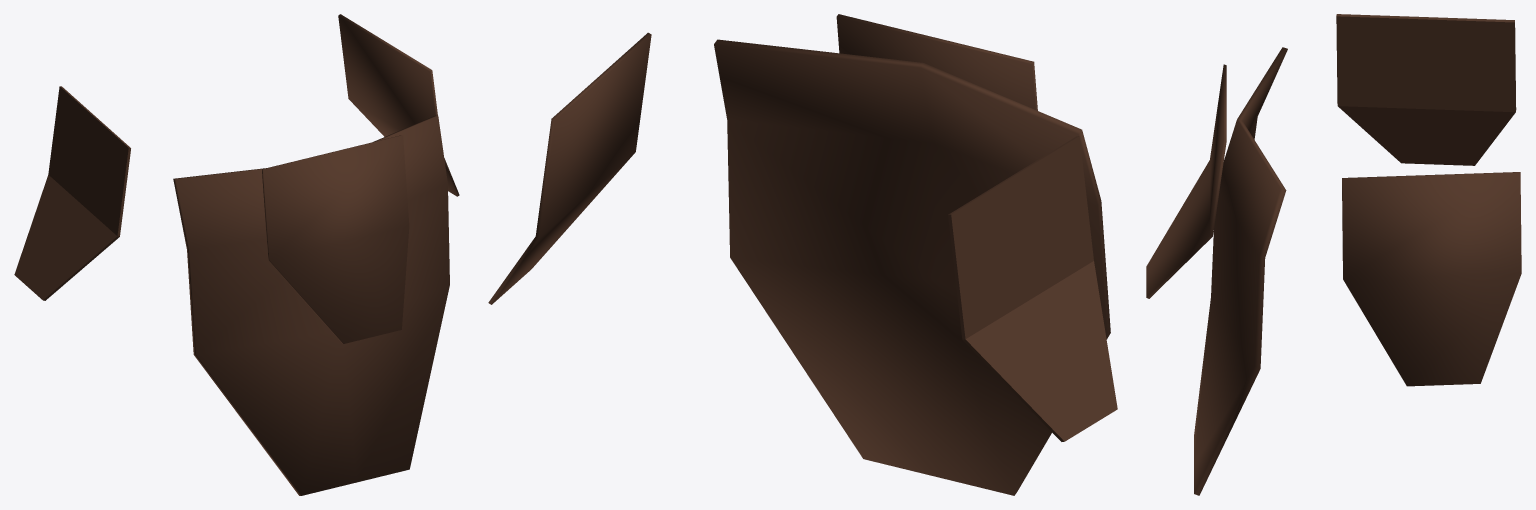
Rendered from Shirt.fbx.
3 renders of one model, left to right at view 1: azimuth 30°, elevation 25°; view 2: azimuth 150°, elevation 25°; view 3: azimuth 270°, elevation 25°, orthographic. The views are drawn at different scales.
Visible parts, largest first — view 1: Skirt; view 2: Skirt; view 3: Skirt.
Part boxes in pixels (bbox=[...]): Skirt: bbox=[14, 14, 459, 495]; Skirt: bbox=[488, 14, 1117, 495]; Skirt: bbox=[1146, 14, 1521, 495].
Size of the model in its own units: 368 by 277 by 258.
